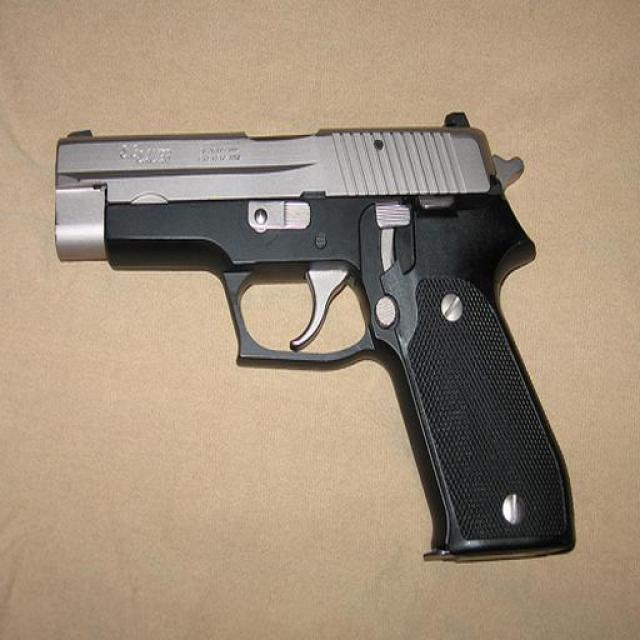pistol: (54, 109, 576, 558)
